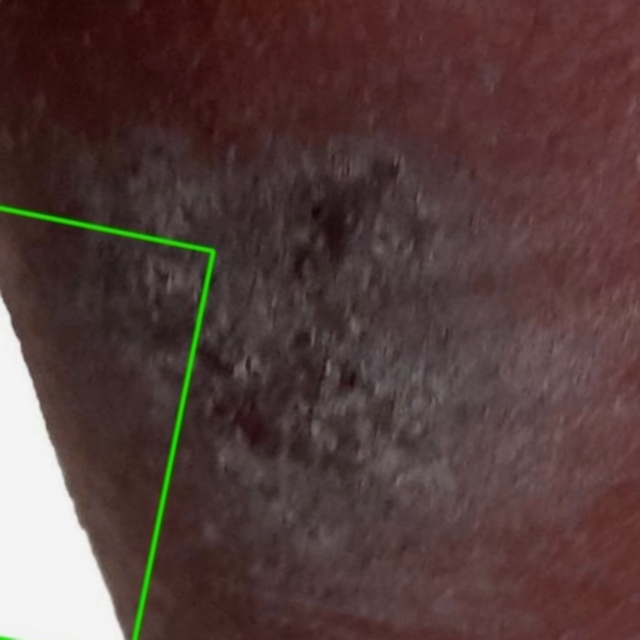Contact Dermatitis: (0, 207, 213, 639)
